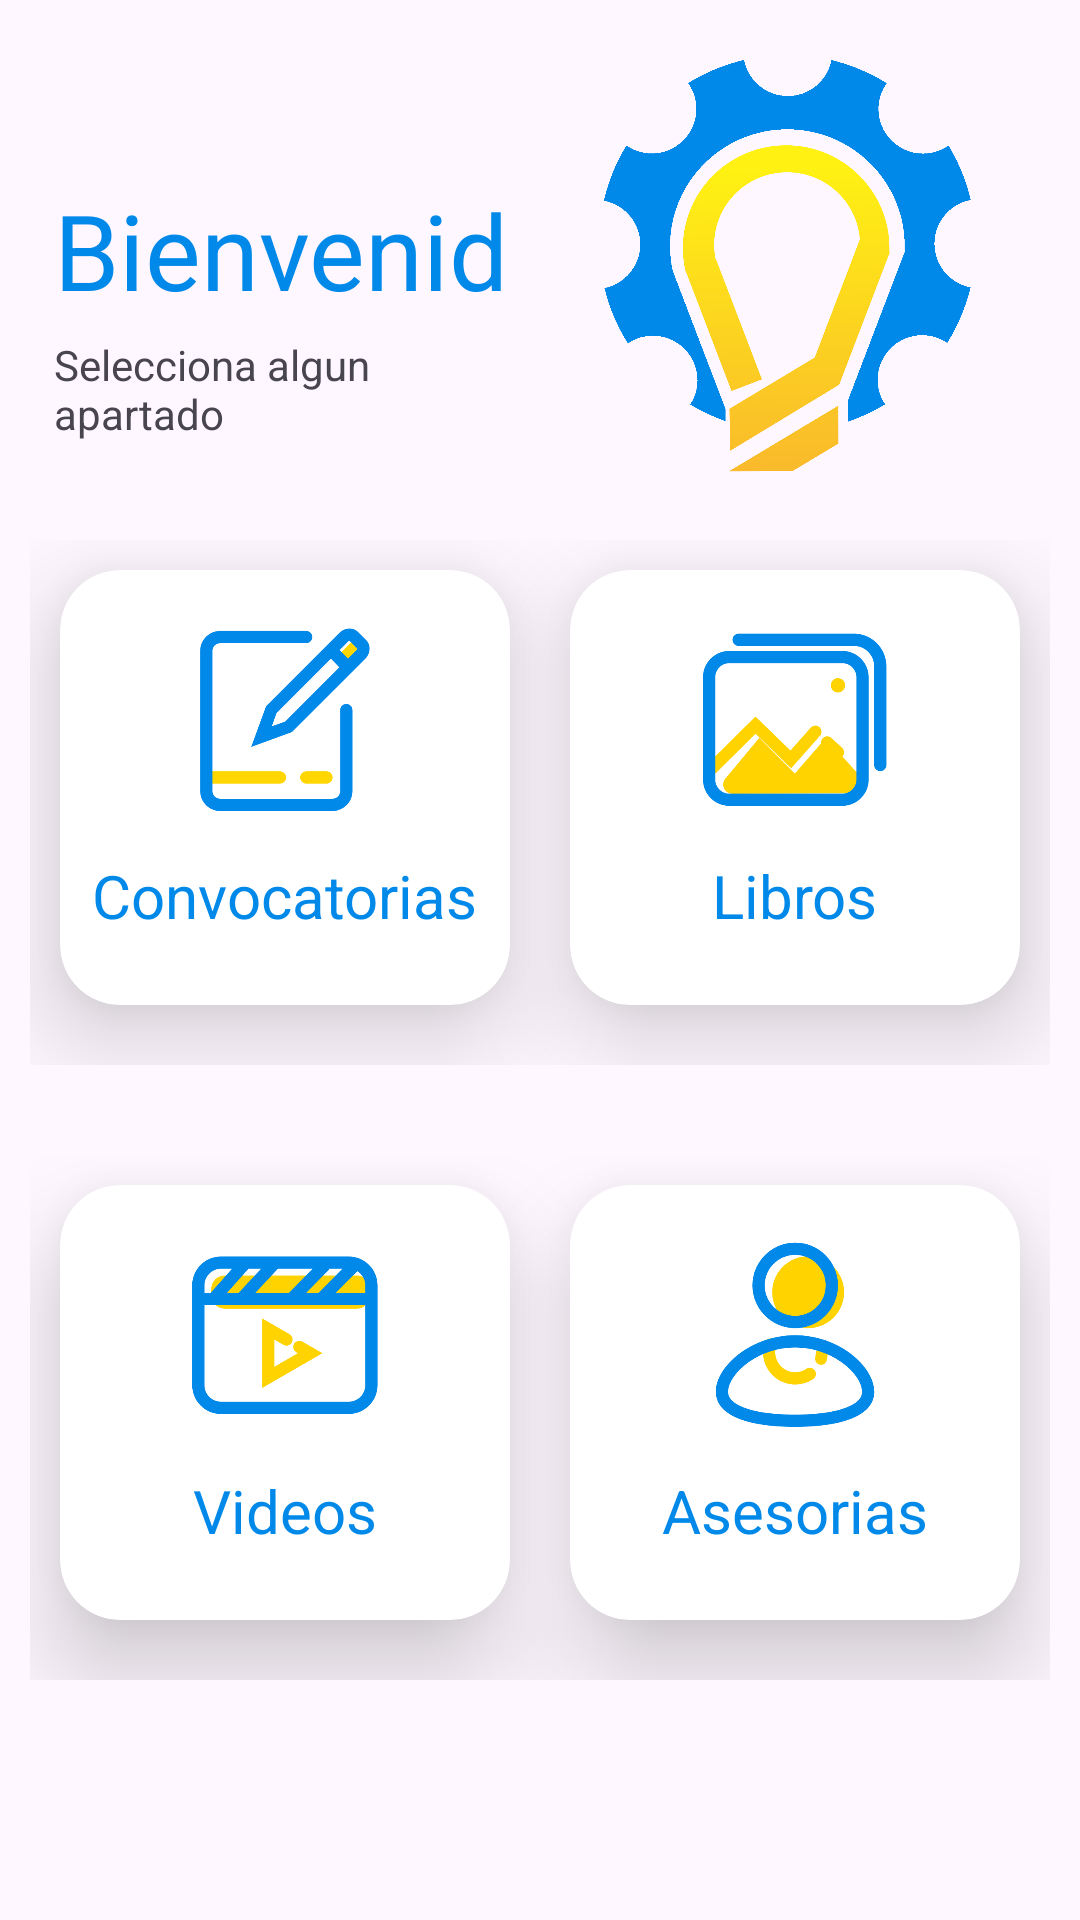

Named icons in this screenshot (1080 x 1920) and their centers, point (x, y):
consul: point (795, 1334)
